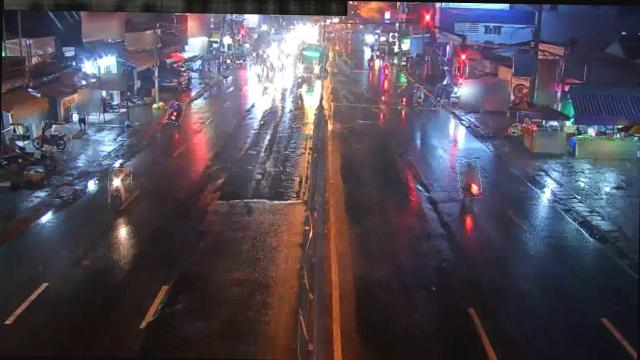Bike: (108, 168, 132, 209), (40, 120, 72, 150), (458, 160, 482, 198), (166, 101, 184, 122), (396, 84, 408, 107), (433, 85, 444, 109), (415, 86, 424, 105)
Bus: (298, 41, 326, 75)
